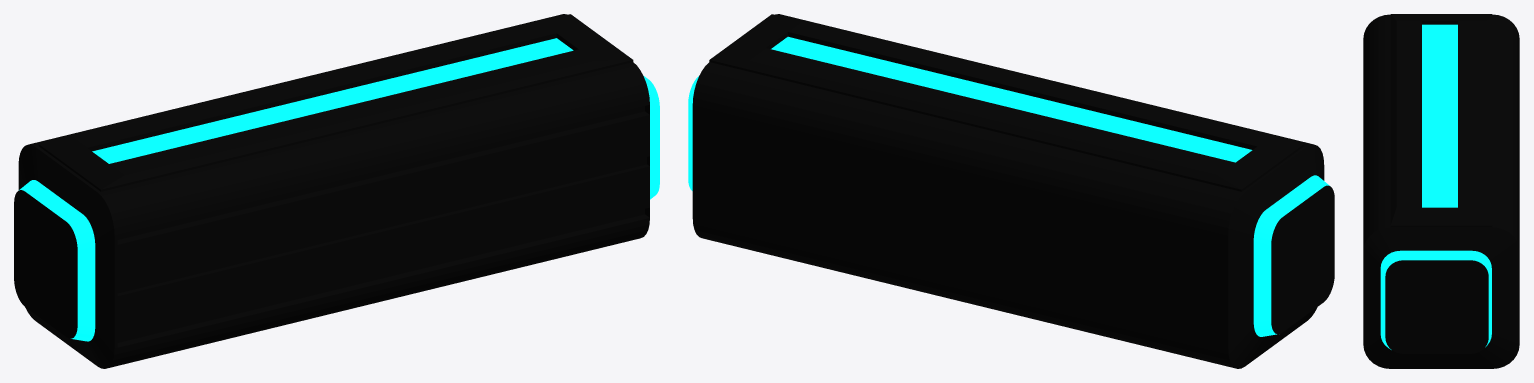
The model's file is Paddle.glb.
3 views of the same model, side by side, from view 1: azimuth 30°, elevation 25°; view 2: azimuth 150°, elevation 25°; view 3: azimuth 270°, elevation 25° (orthographic). The views are drawn at different scales.
Visible parts, largest first — view 1: Paddle; view 2: Paddle; view 3: Paddle.
Boxes of the visible parts, <box> form: Paddle: <box>14,14,659,368</box>; Paddle: <box>688,14,1334,368</box>; Paddle: <box>1363,14,1519,368</box>.
Bounding box in the file's own units: 7.01 × 2.08 × 2.
